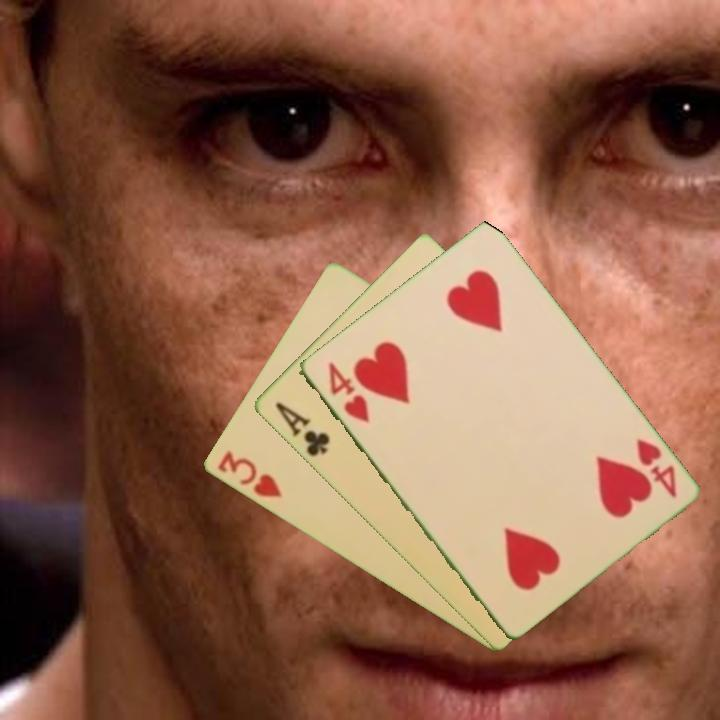3h: (213, 447, 285, 501)
4h: (324, 358, 373, 427), (631, 435, 680, 500)
Ac: (270, 398, 333, 460)
